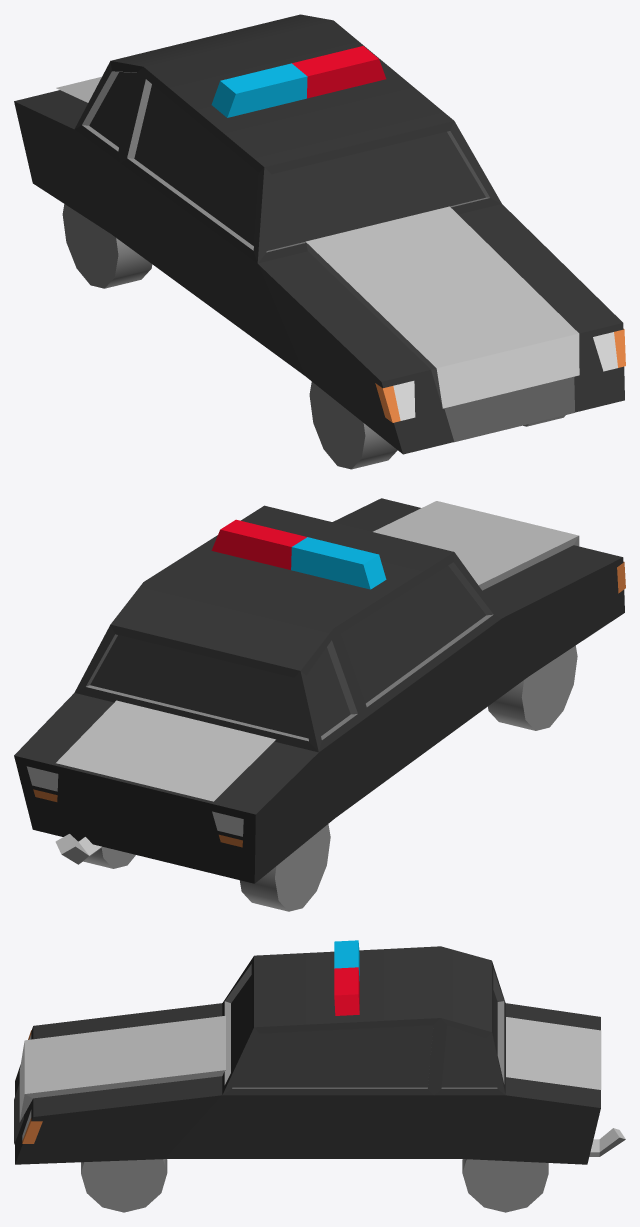
File: police_car_01.fbx
3 views of the same model, one above another, from view 1: azimuth 30°, elevation 25°; view 2: azimuth 150°, elevation 25°; view 3: azimuth 270°, elevation 25° (orthographic). The views are drawn at different scales.
Parts seen in each view (by area): view 1: police_car_01; view 2: police_car_01; view 3: police_car_01.
Part boxes in pixels (x1,y1,x2,y2): police_car_01: (14, 14, 625, 469); police_car_01: (14, 498, 625, 911); police_car_01: (14, 940, 625, 1212).
Bounding box in the file's own units: 1.6 × 1.66 × 4.49.
